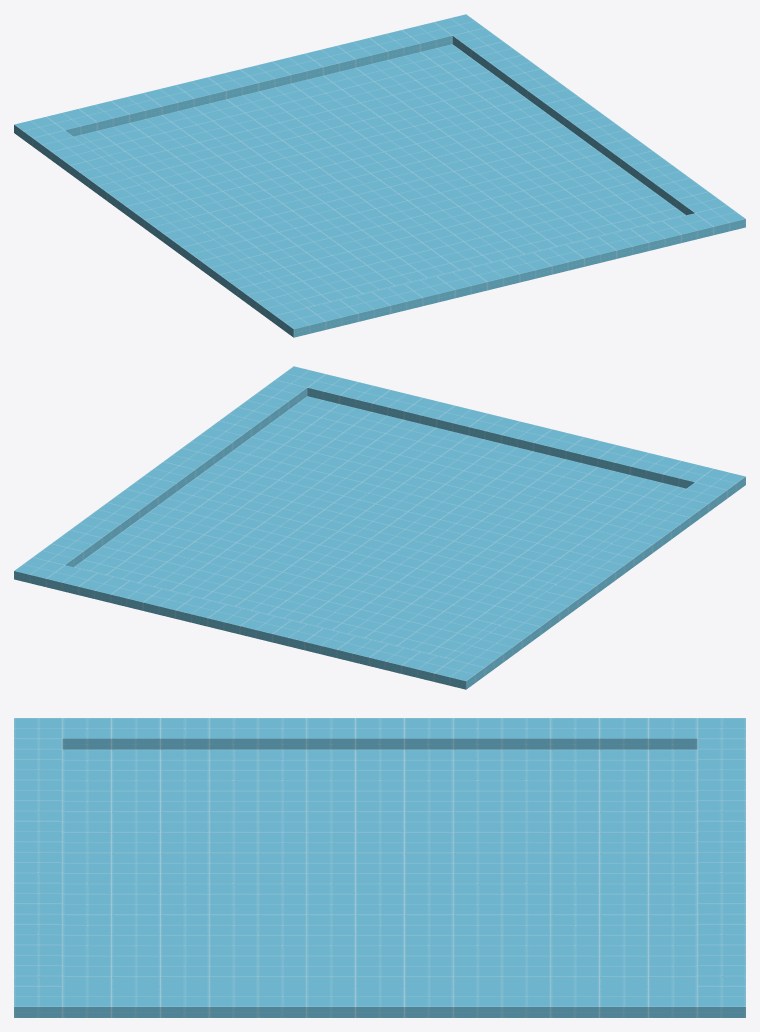
3 views of the same model, one above another, from view 1: azimuth 30°, elevation 25°; view 2: azimuth 150°, elevation 25°; view 3: azimuth 270°, elevation 25° (orthographic). The views are drawn at different scales.
Visible parts, largest first — view 1: scene_01; view 2: scene_01; view 3: scene_01.
Part boxes in pixels (left/top/right/bottom): scene_01: left=14, top=14, right=745, bottom=337; scene_01: left=14, top=366, right=745, bottom=689; scene_01: left=14, top=718, right=745, bottom=1017.
Size of the model in its own units: 21 by 0.375 by 22.5.
